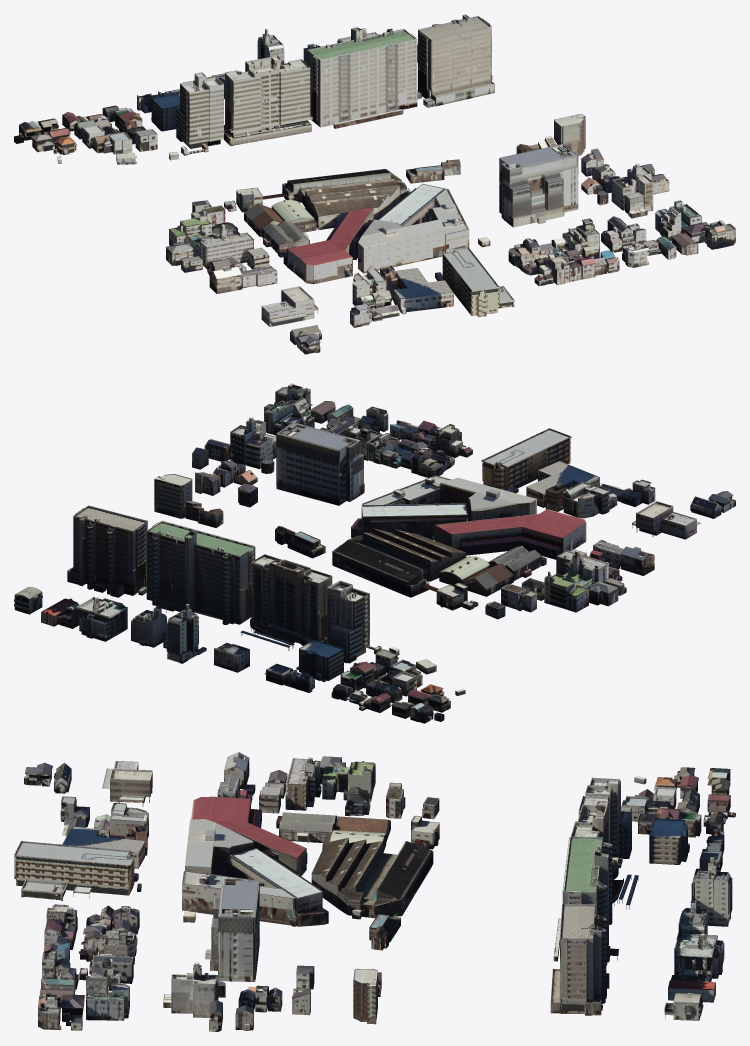
Rendered from lod3-station-7-0-packed.glb.
3 renders of one model, top to bottom at view 1: azimuth 30°, elevation 25°; view 2: azimuth 150°, elevation 25°; view 3: azimuth 270°, elevation 25°, orthographic. The views are drawn at different scales.
Bounding box in the file's own units: 300 × 51.06 × 351.
Materials: 20 (19 with a texture image).
